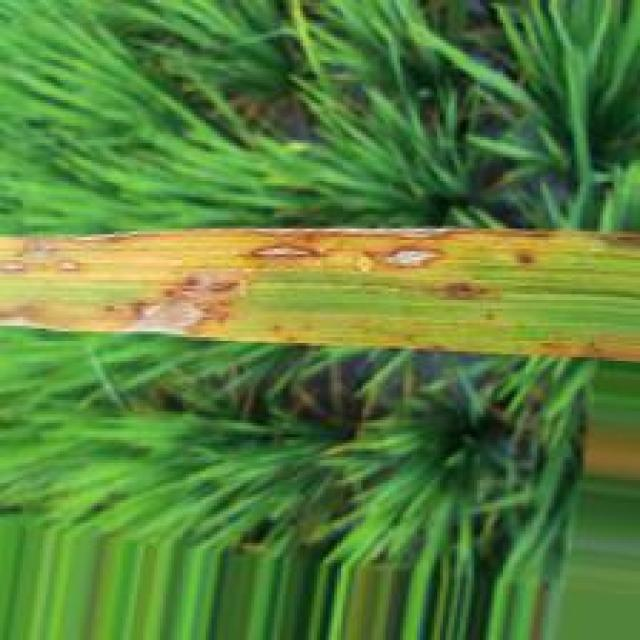Bacterial_Leaf_Blight: (0, 226, 640, 364)
